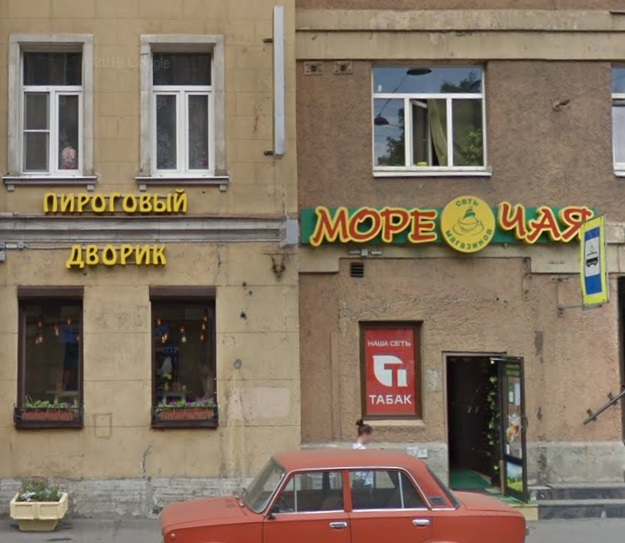cantilever: (260, 1, 288, 162)
door: (440, 354, 530, 502)
signboard: (300, 196, 598, 251), (42, 191, 188, 215), (64, 240, 169, 272)
window: (372, 65, 485, 172), (20, 50, 84, 174), (150, 51, 211, 177), (24, 291, 81, 408), (156, 297, 214, 410), (362, 320, 418, 418)
